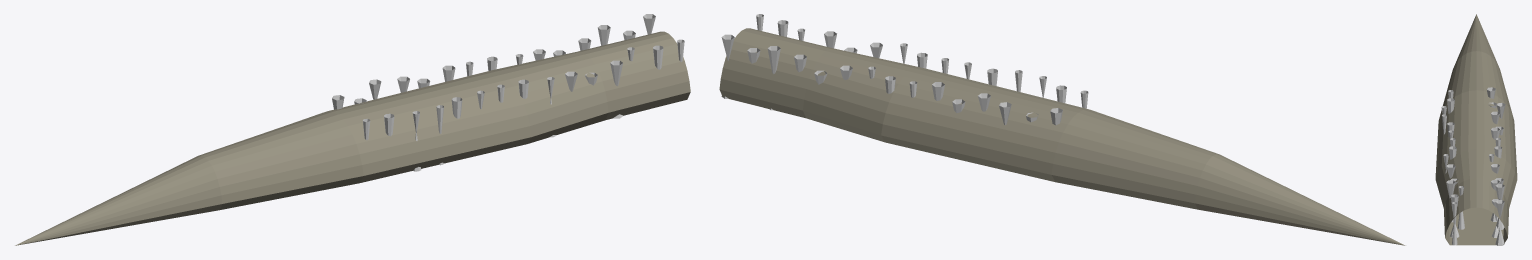
The model's file is Cave.fbx.
The picture shows the model from 3 angles, left to right: view 1: azimuth 30°, elevation 25°; view 2: azimuth 150°, elevation 25°; view 3: azimuth 270°, elevation 25°; orthographic projection. The views are drawn at different scales.
Visible parts, largest first — view 1: Cylinder, Cylinder.004, Cylinder.002; view 2: Cylinder, Cylinder.002, Cylinder.004; view 3: Cylinder, Cylinder.002, Cylinder.004.
Boxes of the visible parts, x1,y1,x2,y2 form: Cylinder: (15, 31, 690, 245); Cylinder.004: (362, 39, 684, 171); Cylinder.002: (332, 14, 655, 109); Cylinder: (719, 28, 1405, 245); Cylinder.002: (721, 34, 1062, 125); Cylinder.004: (756, 14, 1088, 108); Cylinder: (1435, 14, 1517, 245); Cylinder.002: (1487, 87, 1505, 245); Cylinder.004: (1441, 90, 1464, 245).
Size of the model in its own units: 5800 by 500 by 866.
